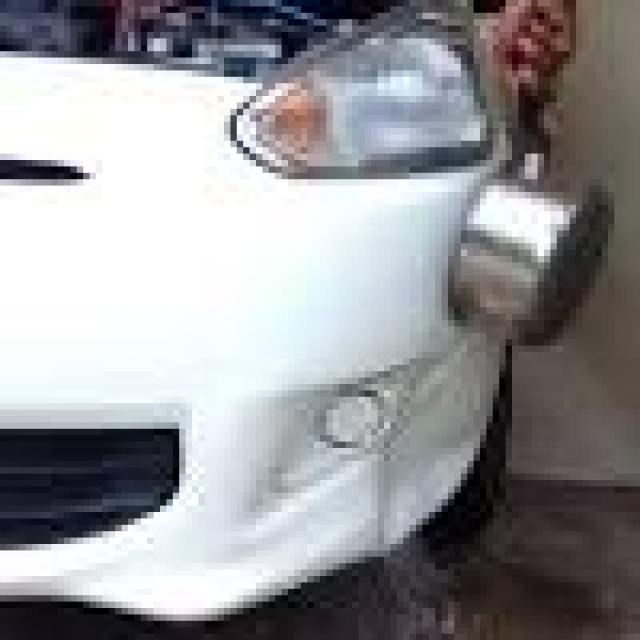minor: (338, 372, 502, 548)
